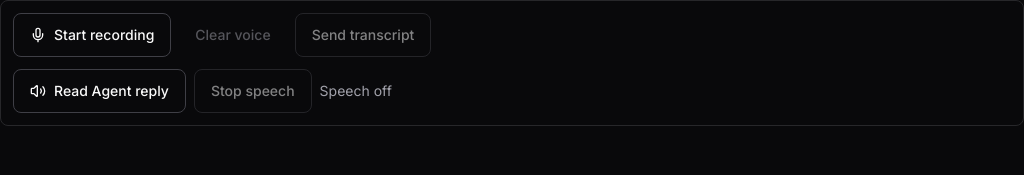
Agent voice controls › cancels and clears listening, rejecting late callbacks
The width and height of the screenshot is (1024, 175).
Click the button "Start recording": [92, 35] box [13,13,171,57]
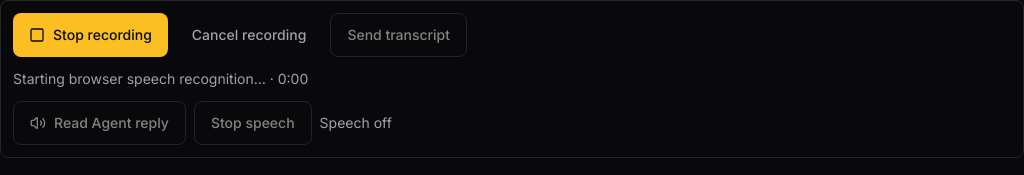
Click the button "Cancel recording": [249, 35] box [176,13,322,57]
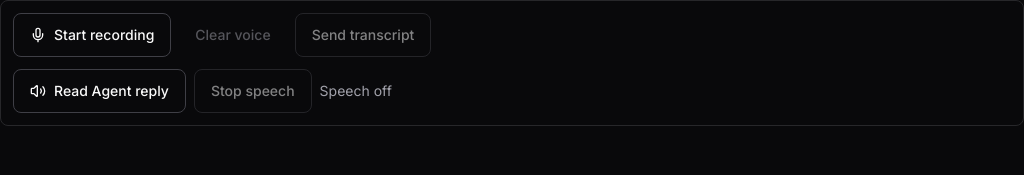
Check: the message with test id "agent-voice-status" is gone
